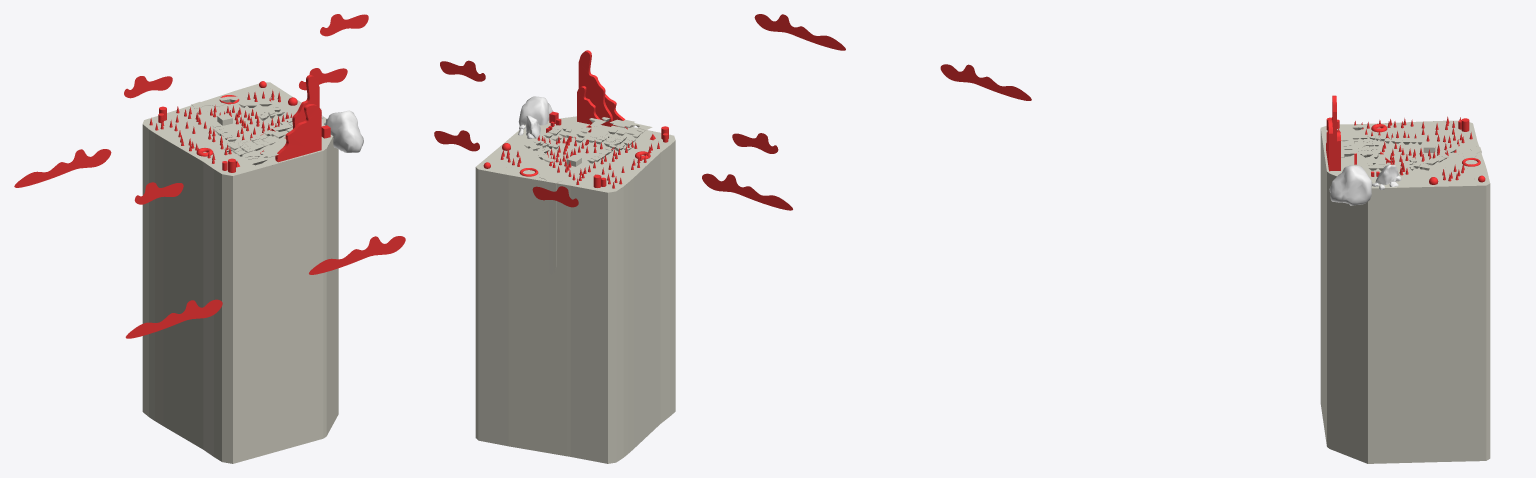
3 views of the same model, side by side, from view 1: azimuth 30°, elevation 25°; view 2: azimuth 150°, elevation 25°; view 3: azimuth 270°, elevation 25° (orthographic). The views are drawn at different scales.
Visible parts, largest first — view 1: all area_wall; view 2: all area_wall; view 3: all area_wall.
Boxes of the visible parts, box(x1,y1,x2,y2) form: all area_wall: box(14, 14, 405, 463); all area_wall: box(434, 14, 1031, 463); all area_wall: box(1320, 95, 1490, 463).
Size of the model in its own units: 10830 by 8776 by 10390.
